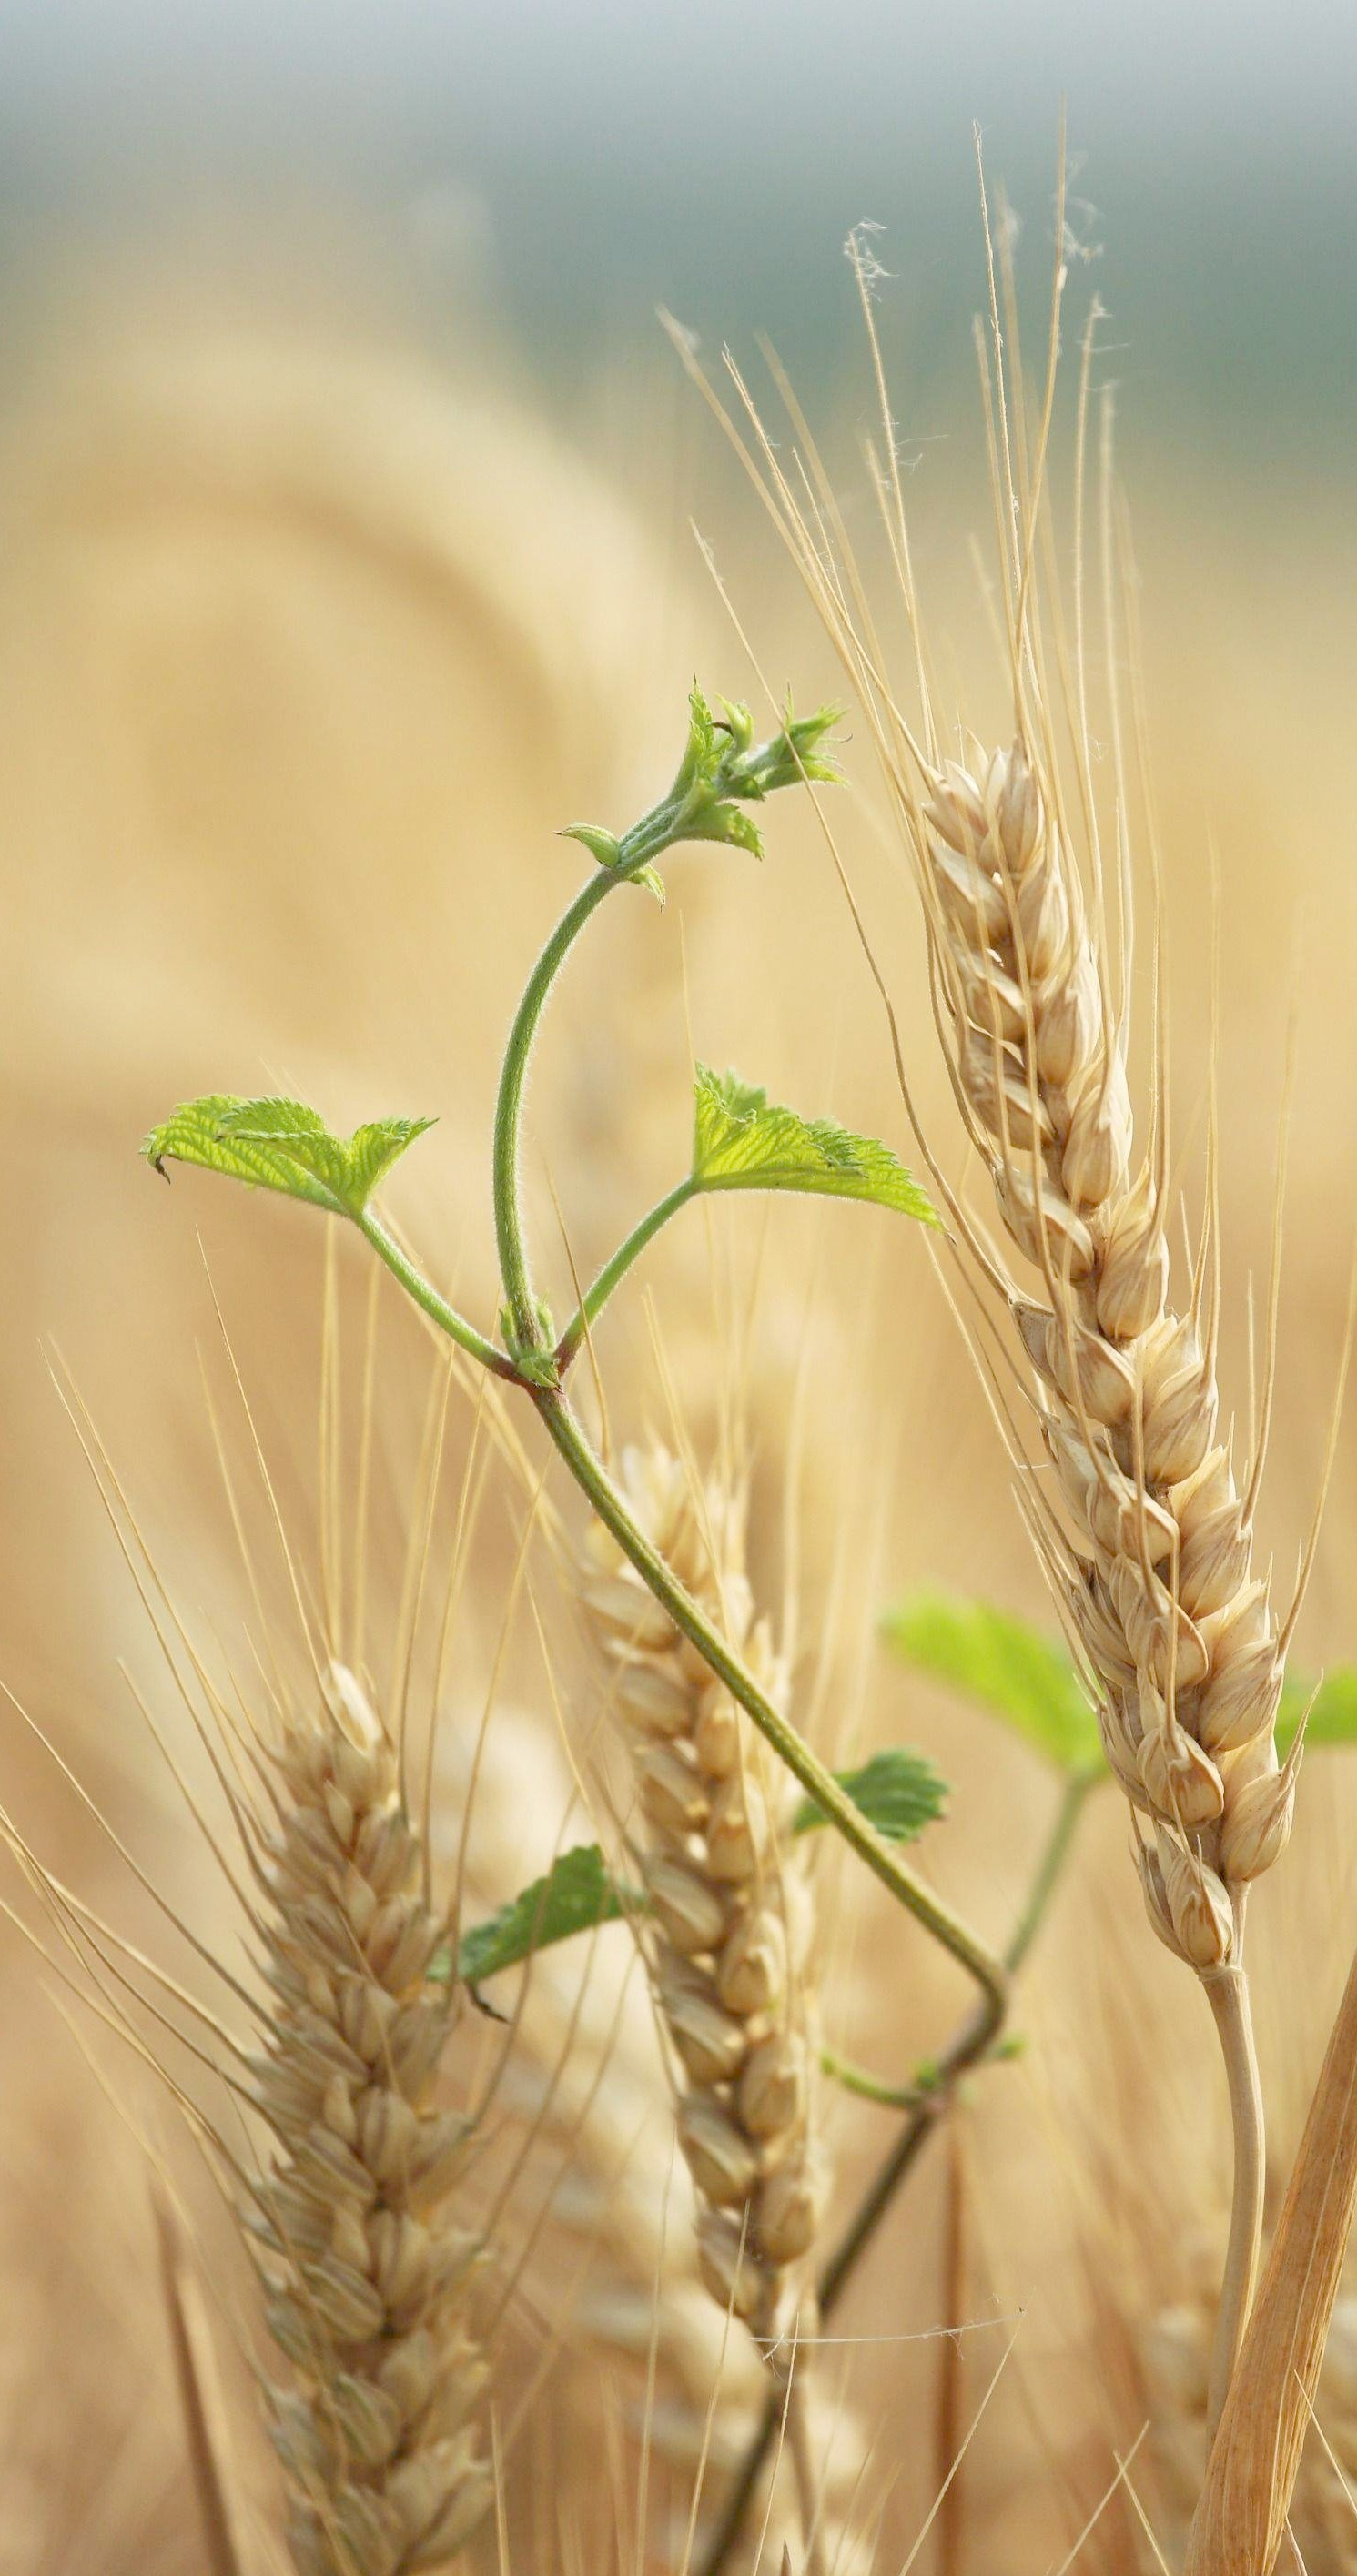wheat: (863, 564, 1355, 2014), (113, 1634, 503, 2552), (588, 1416, 859, 2355)
